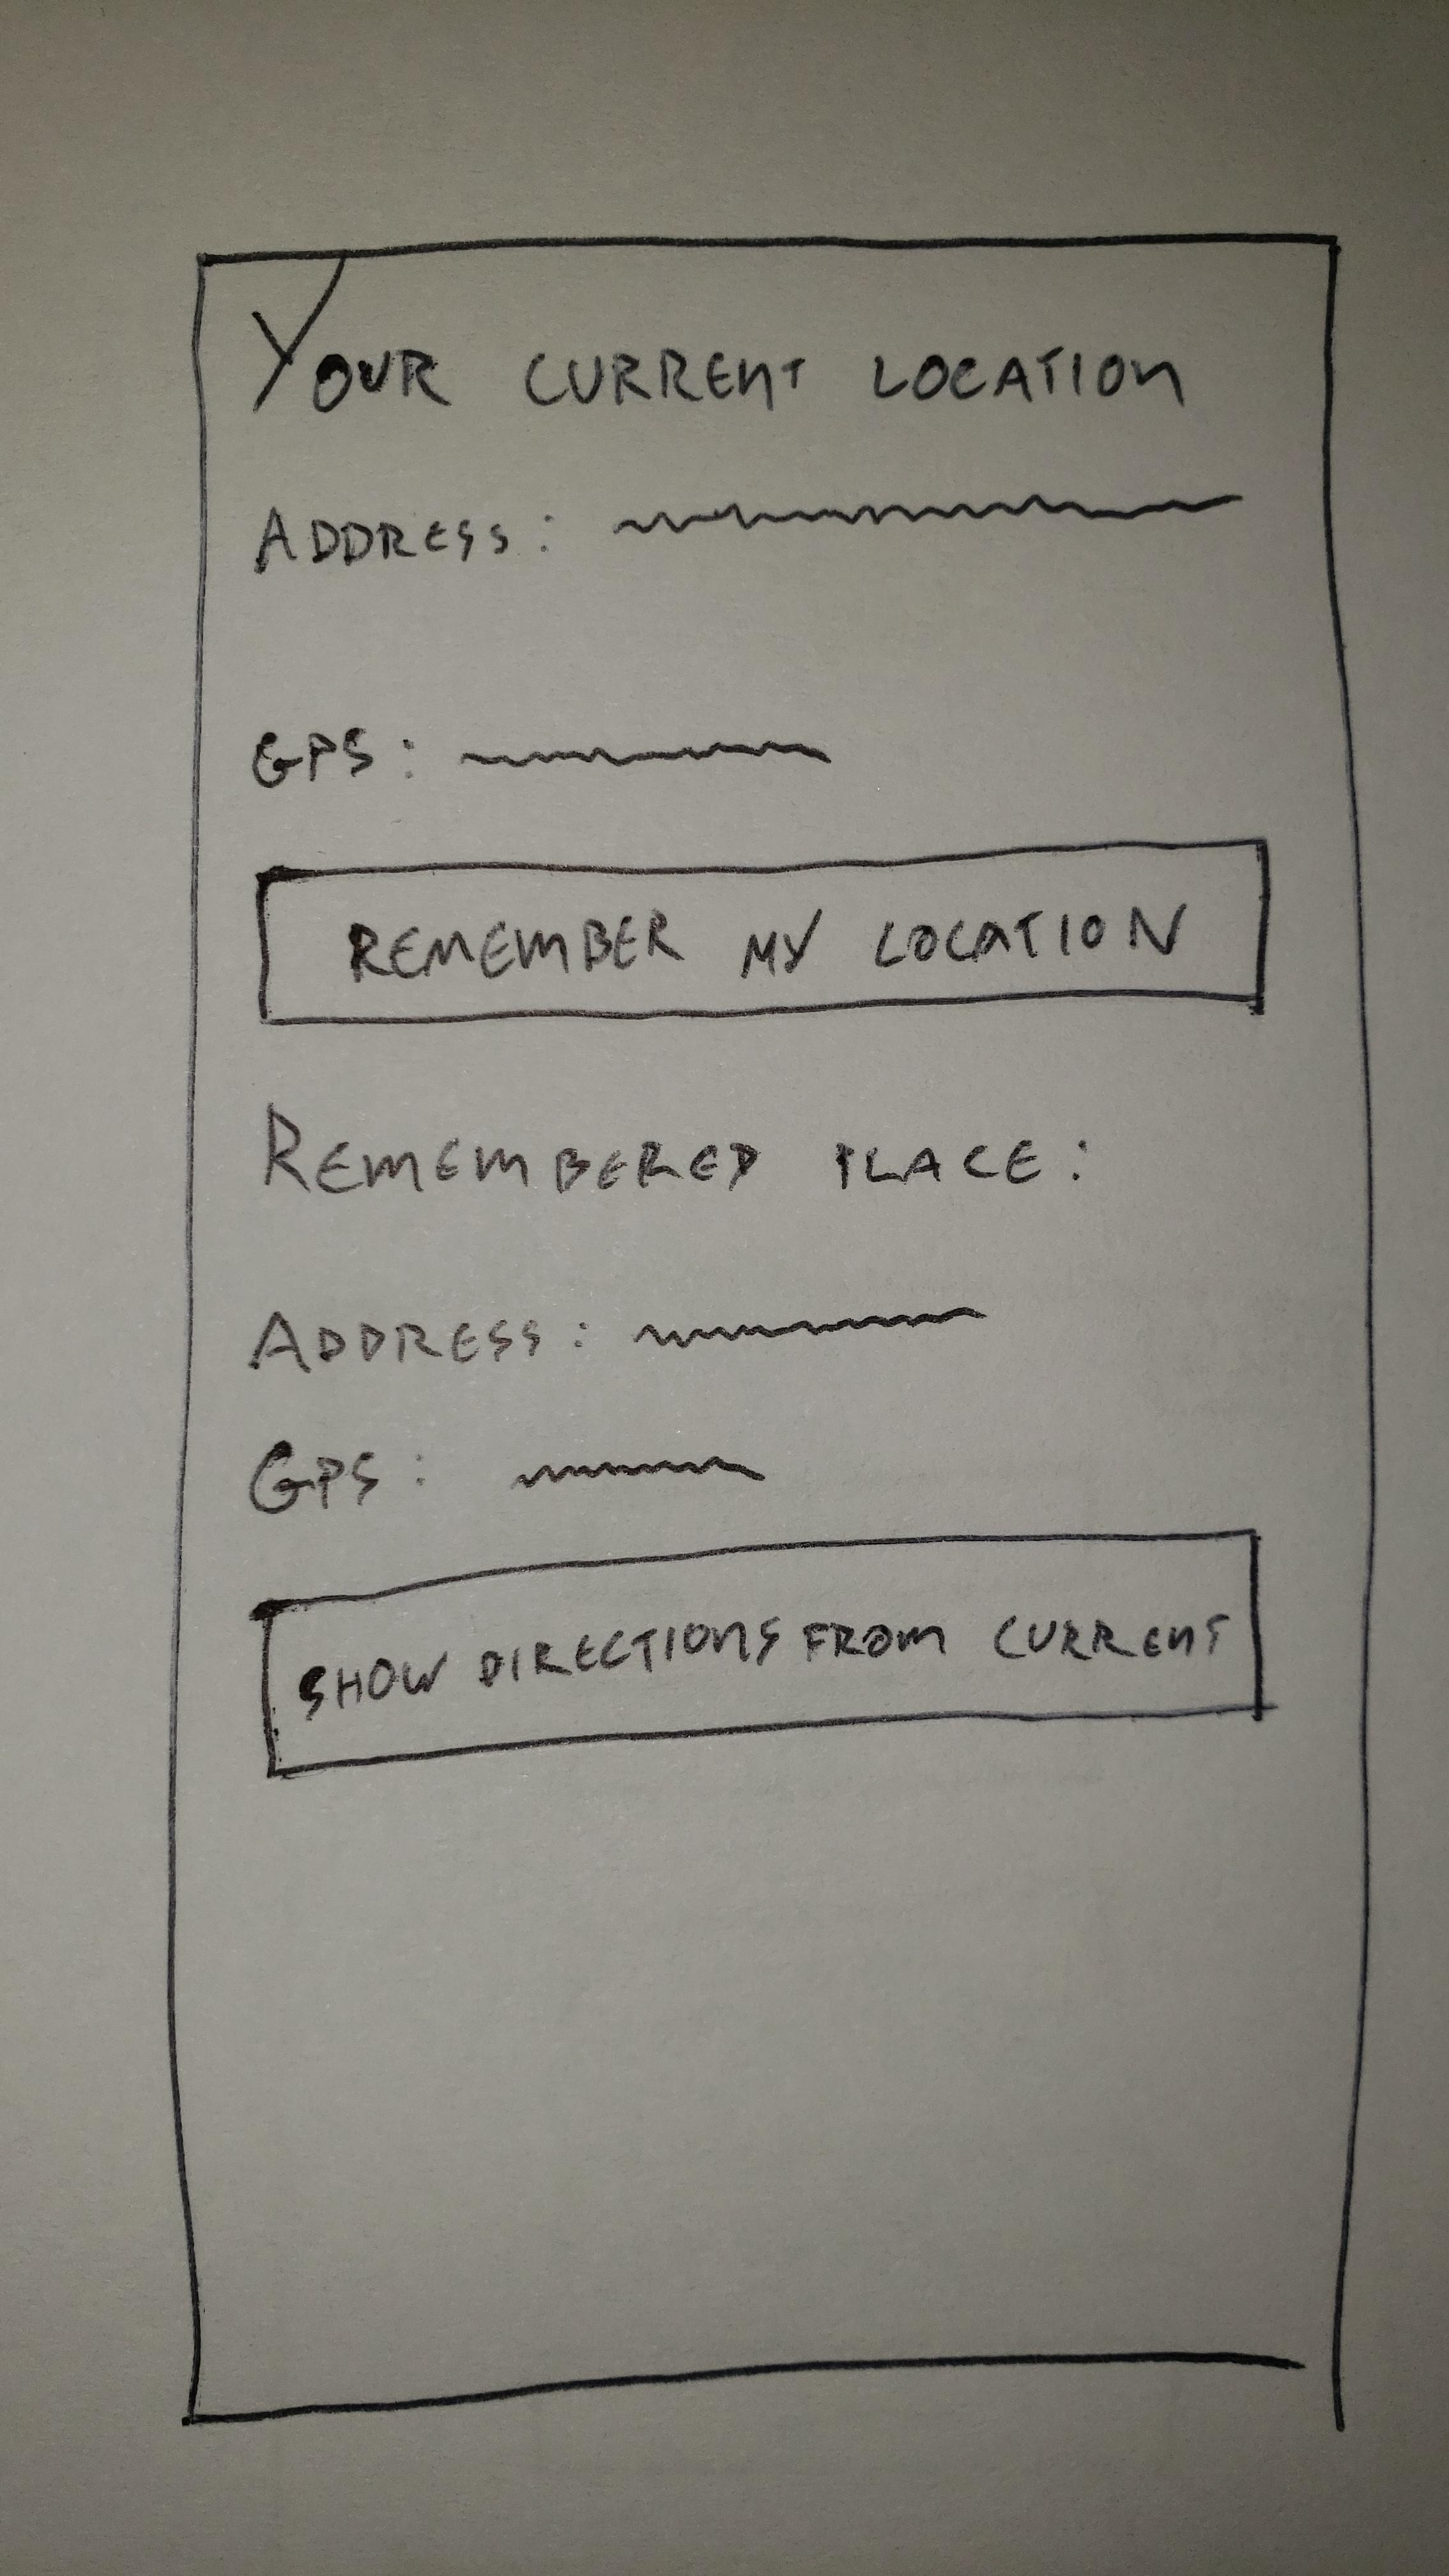Button: (262, 1529, 1261, 1776), (253, 837, 1270, 1024)
Label: (242, 255, 1200, 421), (258, 1104, 1099, 1198), (610, 487, 1253, 534), (248, 1306, 594, 1375), (249, 504, 559, 571), (632, 1300, 991, 1352), (248, 1431, 430, 1518), (456, 734, 833, 775), (513, 1442, 768, 1497), (246, 722, 419, 793)
Screen: (166, 234, 1380, 2424)
